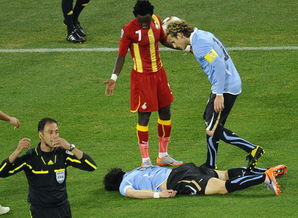fall: (97, 156, 288, 199)
